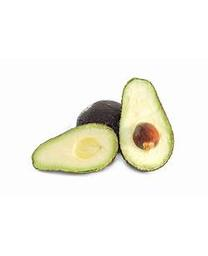avocado: (119, 78, 174, 173), (31, 121, 119, 175), (76, 101, 126, 149)
